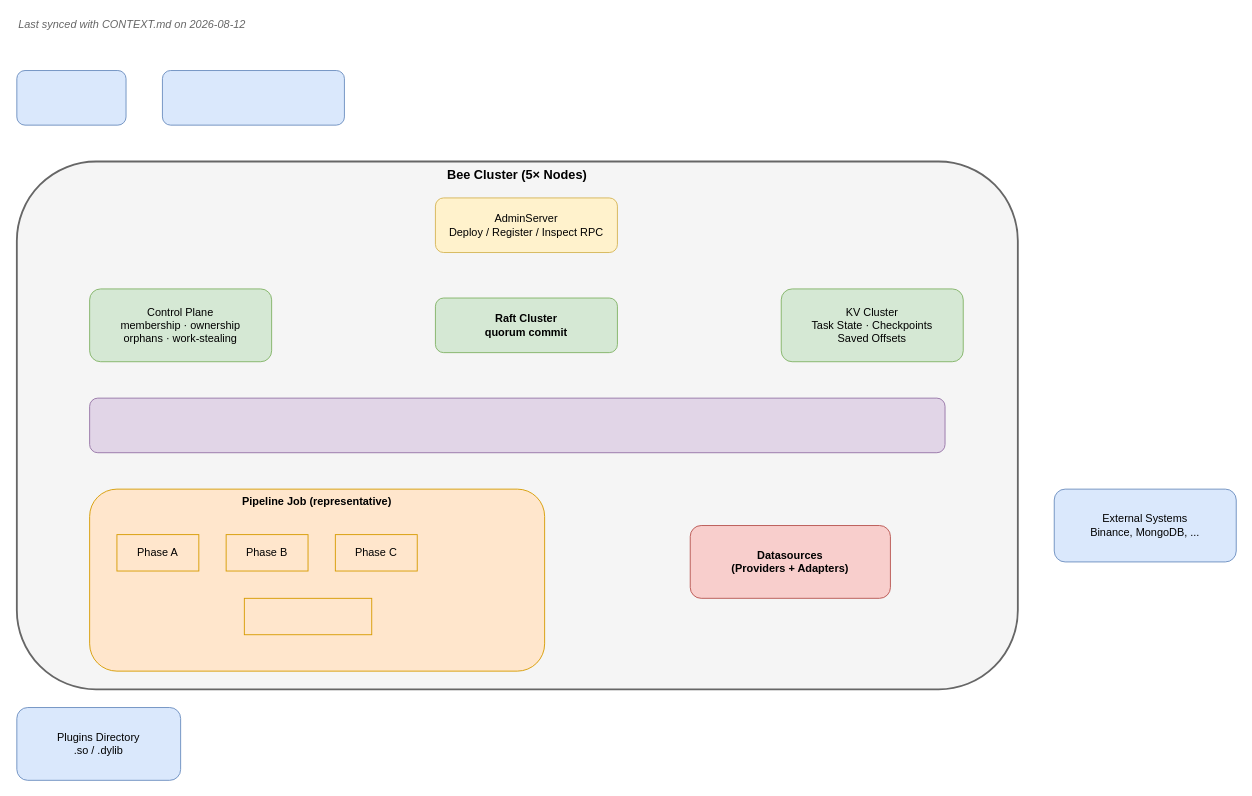
Some shapes in this 1252 by 796 pixel diagram are drawn without their labels. Each missing label, with the centre of its shape:
Bee Client (Tauri) app/ Tauri 2.x + React: (x=253, y=97)
Data Plane (BRP) — Phase↔Phase · Remote Handler · I/O: (x=517, y=425)
Handler (stateless): (x=307, y=616)
User: (x=71, y=97)
